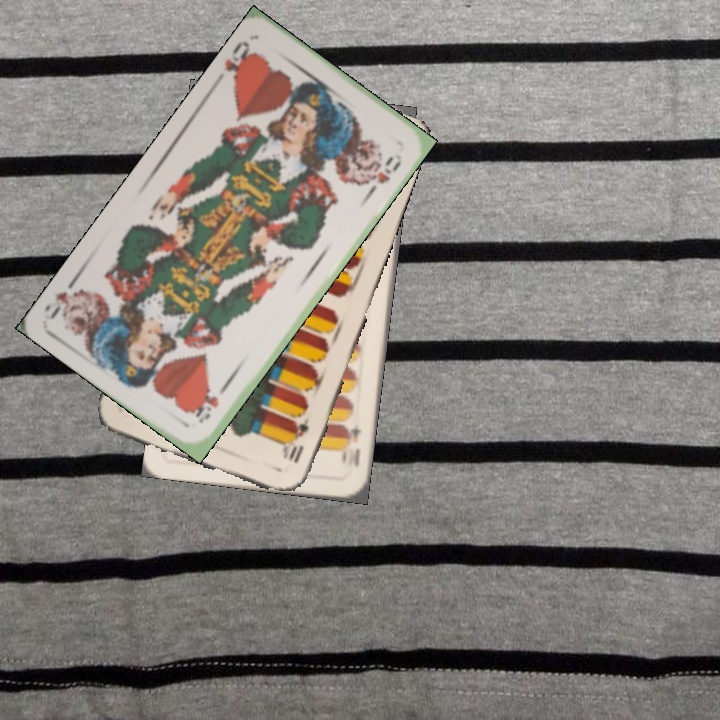E10: (279, 415, 312, 467), (341, 417, 364, 470)
HO: (220, 36, 260, 91), (192, 377, 232, 427)
